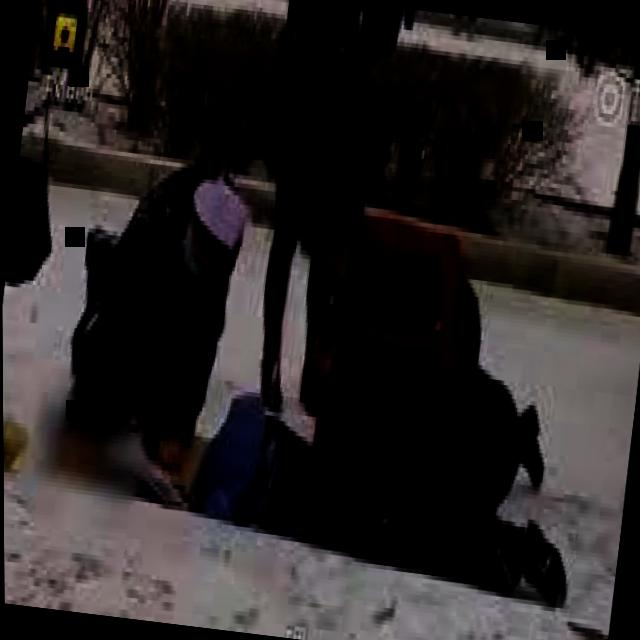Fall-Detected: (127, 383, 566, 581)
